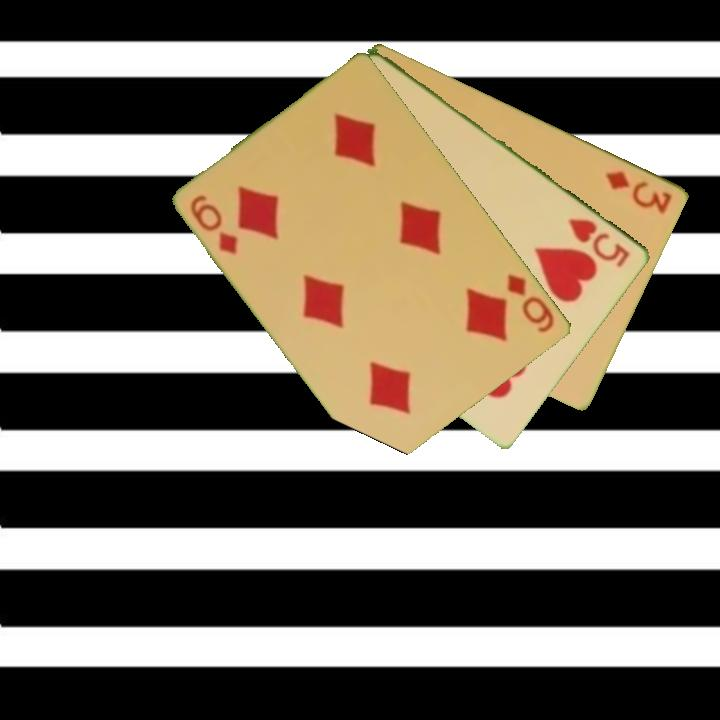3d: (602, 167, 676, 217)
5h: (565, 214, 633, 271)
6d: (187, 191, 241, 258), (504, 270, 558, 336)
